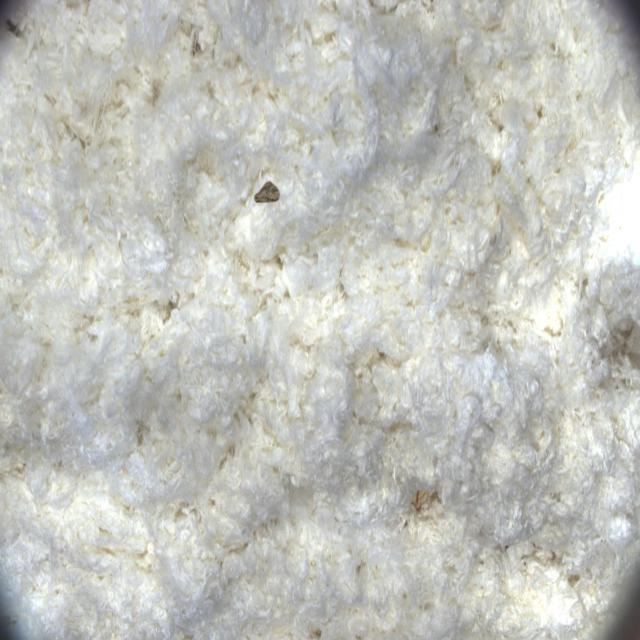dust: (243, 162, 298, 228)
